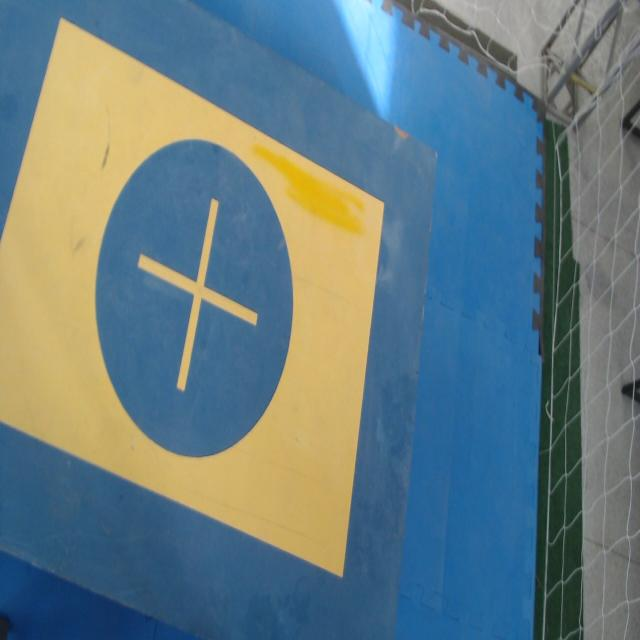base_inicio: (0, 17, 385, 577)
